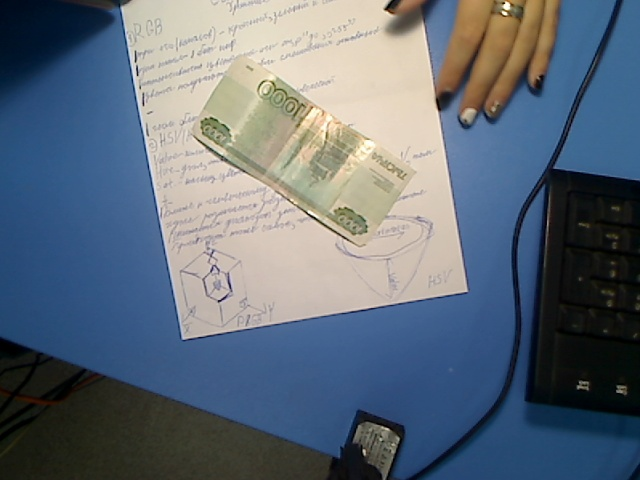banknotes: (189, 54, 418, 250)
